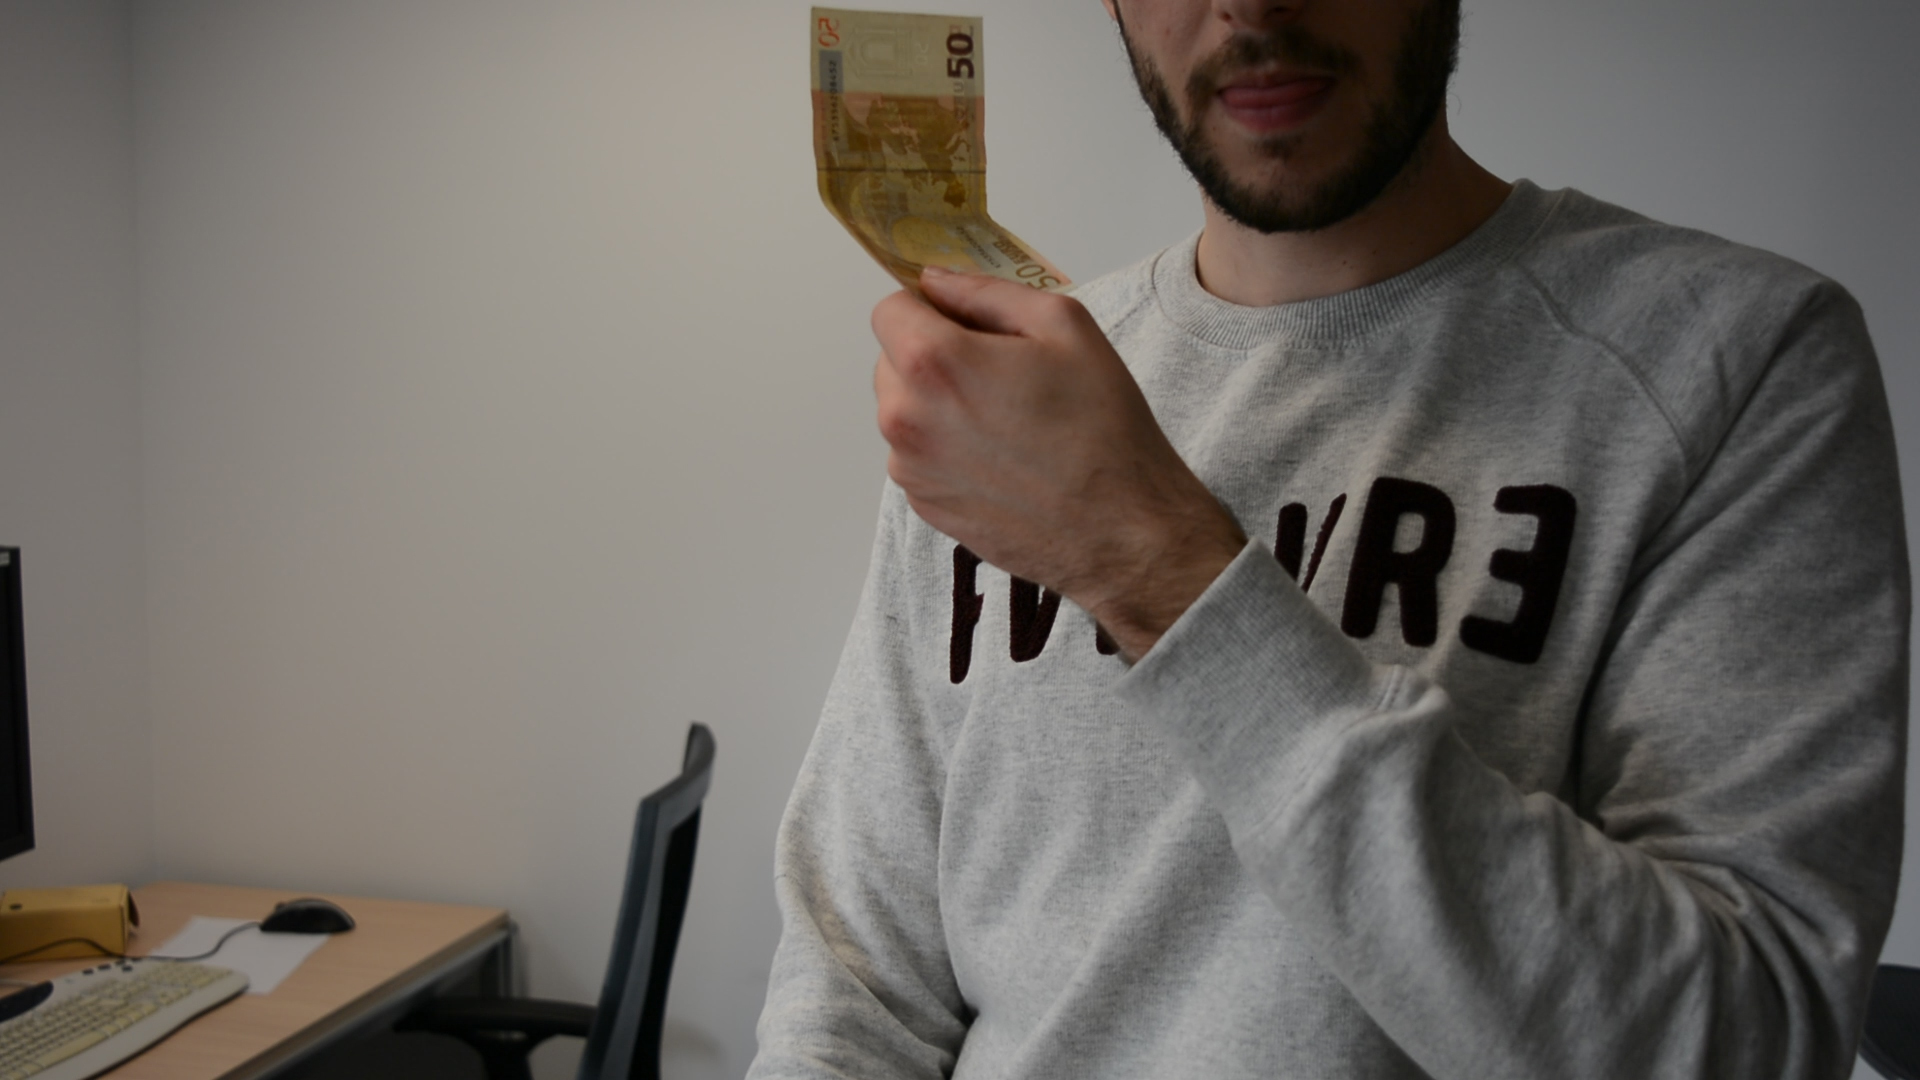billete: (808, 4, 1083, 313)
